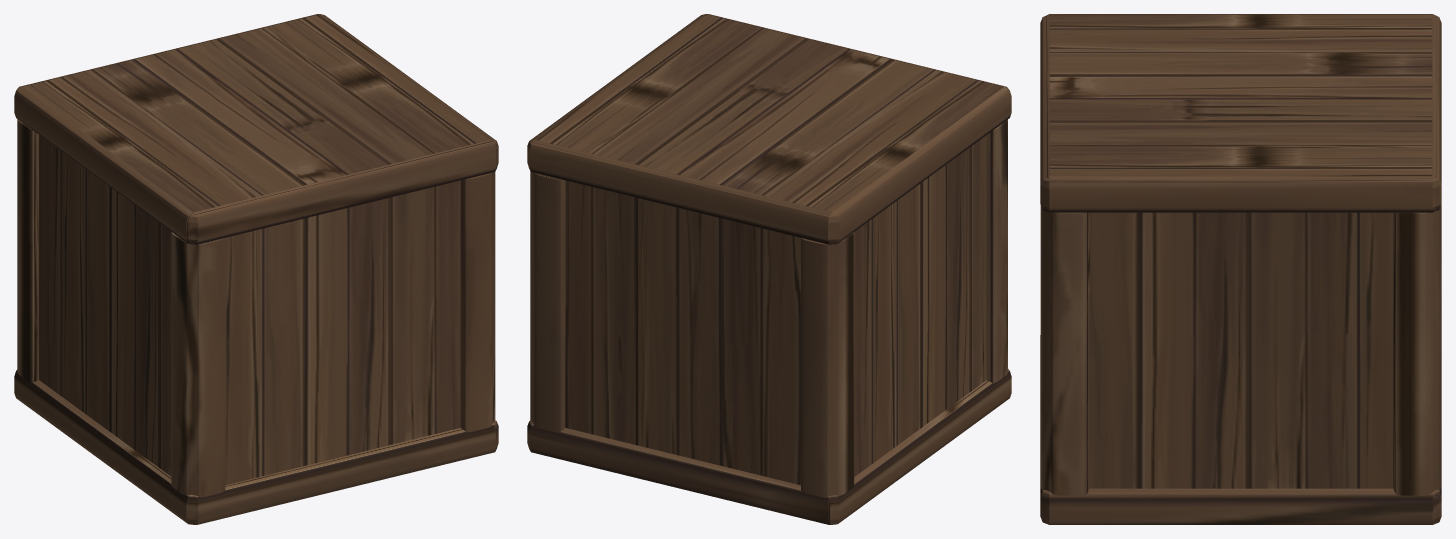
File: Crate.fbx
3 renders of one model, left to right at view 1: azimuth 30°, elevation 25°; view 2: azimuth 150°, elevation 25°; view 3: azimuth 270°, elevation 25°, orthographic. The views are drawn at different scales.
Parts seen in each view (by area): view 1: Crate_001; view 2: Crate_001; view 3: Crate_001.
Boxes of the visible parts, box(x1,y1,x2,y2) form: Crate_001: box(14, 14, 498, 524); Crate_001: box(527, 14, 1011, 524); Crate_001: box(1040, 14, 1441, 524).
Size of the model in its own units: 0.6322 by 0.6043 by 0.6315.
